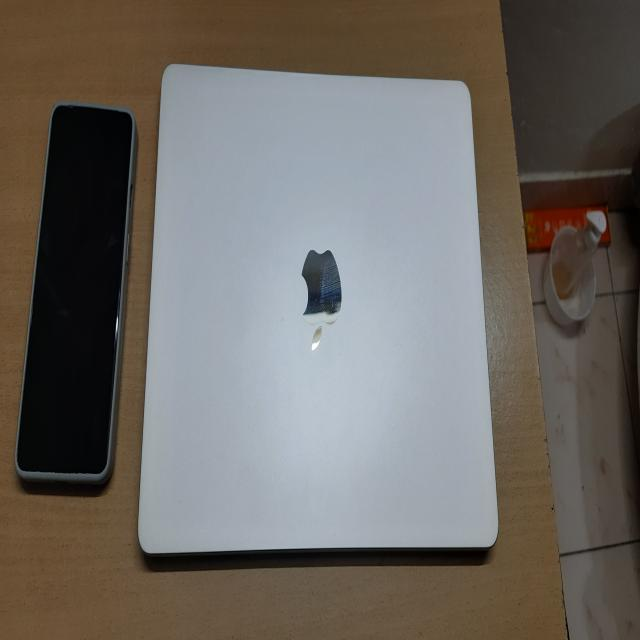Laptop-and-Mobile: (141, 58, 504, 560)
Mobile: (11, 105, 140, 503)
